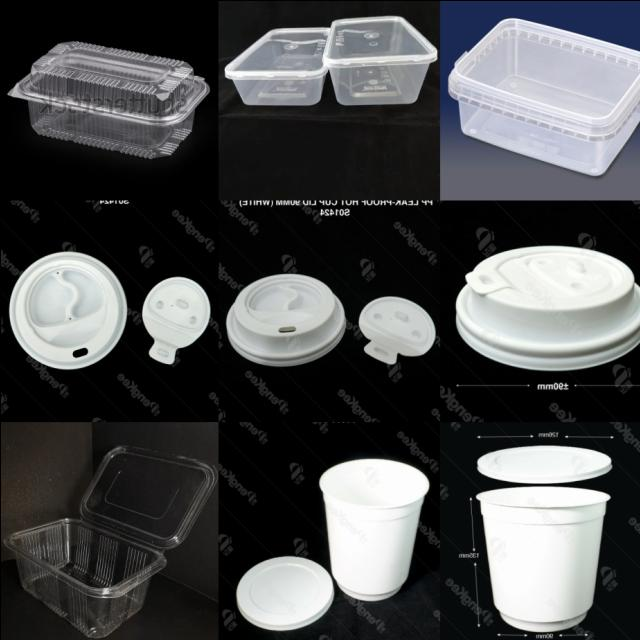plastik: (4, 445, 215, 636), (448, 18, 640, 175), (8, 40, 209, 156), (456, 245, 640, 369), (475, 486, 609, 631), (318, 458, 428, 600), (9, 251, 126, 368), (226, 273, 344, 365), (322, 15, 436, 104), (224, 28, 328, 104), (236, 556, 334, 630), (141, 277, 209, 364), (476, 444, 610, 483), (358, 296, 435, 363)
